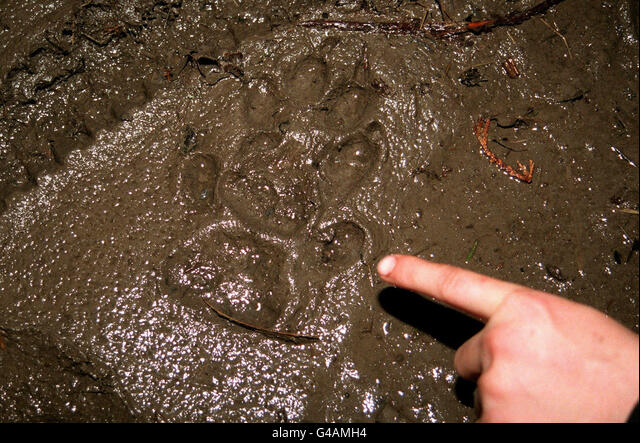cat: (165, 130, 373, 349), (221, 60, 380, 237)
